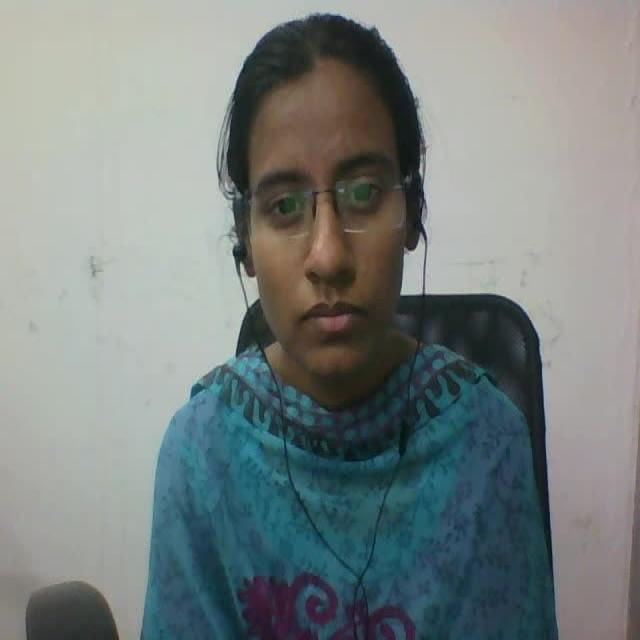Engaged: (194, 10, 487, 387)
